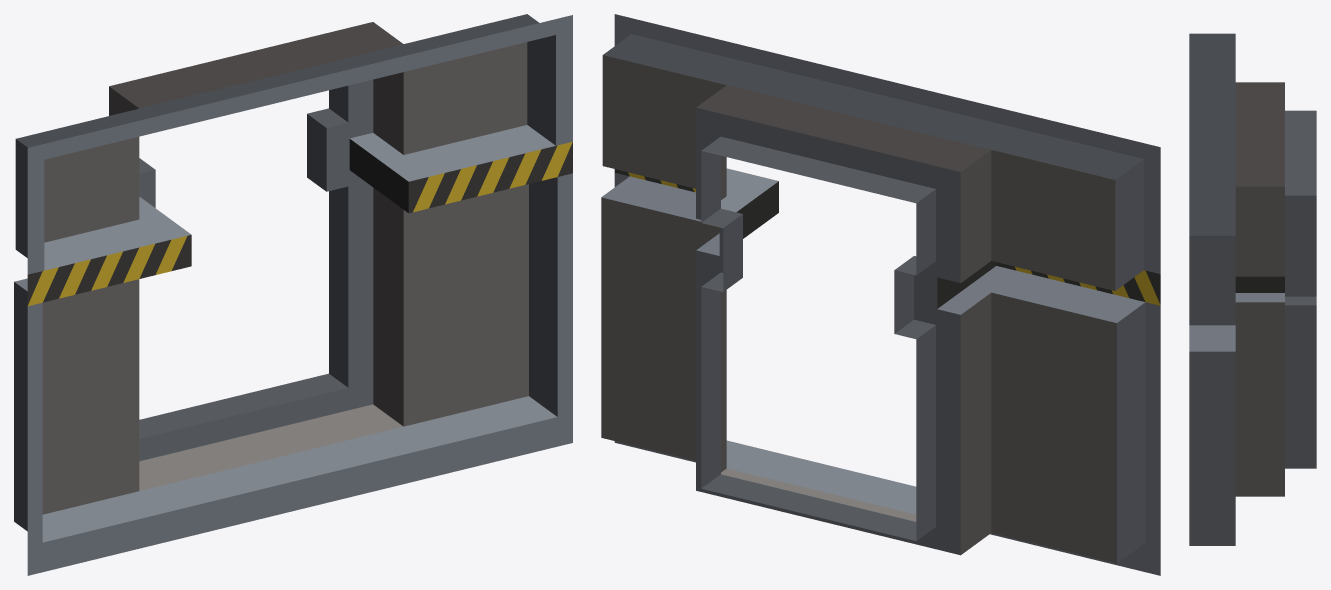
File: AI_Env_Bunker_Wall_Door.fbx
3 views of the same model, side by side, from view 1: azimuth 30°, elevation 25°; view 2: azimuth 150°, elevation 25°; view 3: azimuth 270°, elevation 25° (orthographic). The views are drawn at different scales.
Parts seen in each view (by area): view 1: AI_Env_Bunker_Wall_Door; view 2: AI_Env_Bunker_Wall_Door; view 3: AI_Env_Bunker_Wall_Door.
Boxes of the visible parts, x1,y1,x2,y2 form: AI_Env_Bunker_Wall_Door: (14,14,572,575); AI_Env_Bunker_Wall_Door: (601,14,1160,575); AI_Env_Bunker_Wall_Door: (1189,33,1316,545).
Size of the model in its own units: 5 by 3.75 by 1.25.
